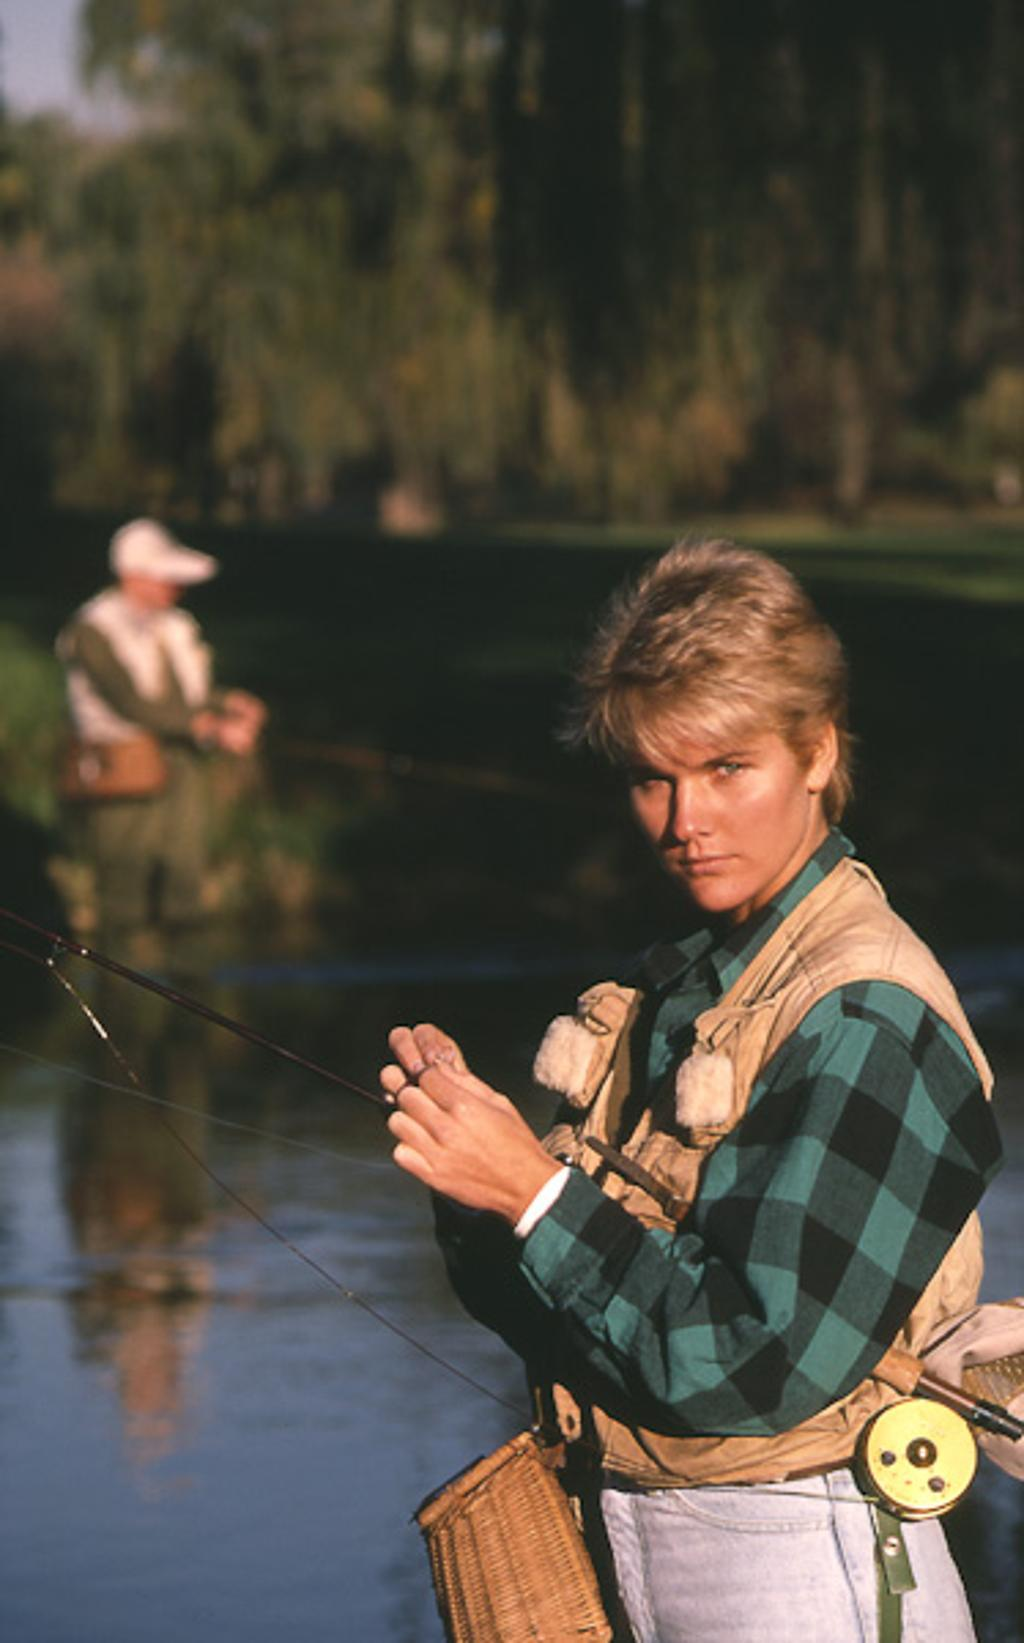face: (633, 669, 794, 903)
